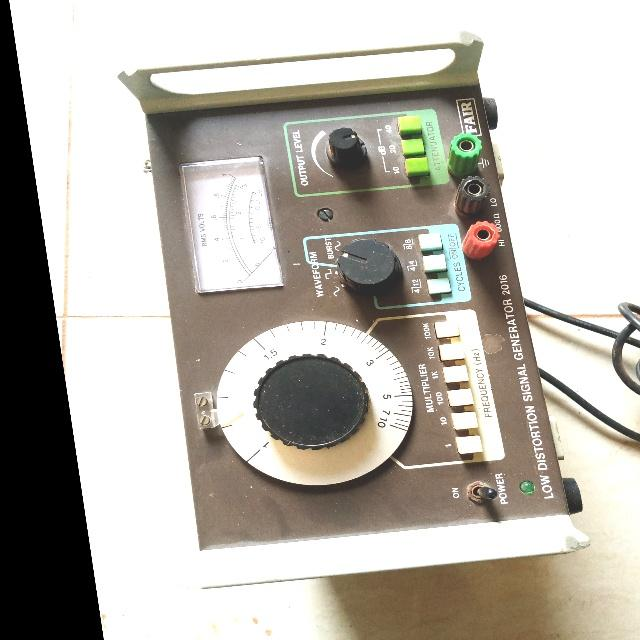Low Distortion Signal Generator: (78, 11, 624, 612)
